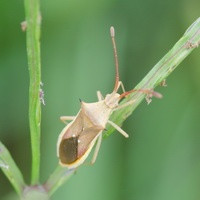insect: (57, 26, 159, 168)
